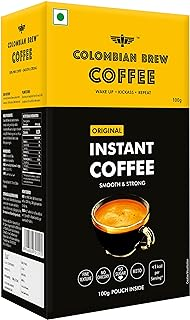Coffee: (2, 11, 190, 317)
